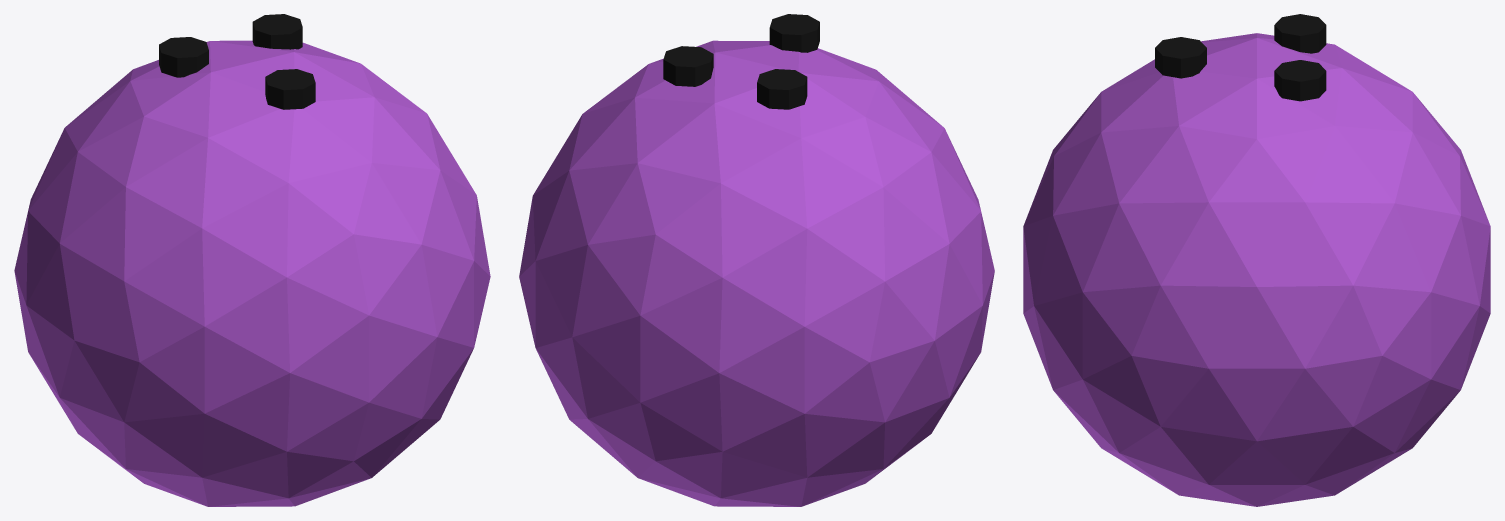
File: bowling_ball_3.glb
3 views of the same model, side by side, from view 1: azimuth 30°, elevation 25°; view 2: azimuth 150°, elevation 25°; view 3: azimuth 270°, elevation 25° (orthographic).
Parts seen in each view (by area): view 1: ball, hole_ball_hole; view 2: ball, hole_ball_hole; view 3: ball, hole_ball_hole.
Part boxes in pixels (<box>): ball: <box>14,40,490,506</box>; hole_ball_hole: <box>159,14,315,109</box>; ball: <box>519,40,994,506</box>; hole_ball_hole: <box>663,14,819,109</box>; ball: <box>1023,33,1490,506</box>; hole_ball_hole: <box>1155,14,1326,101</box>.
Bounding box in the file's own units: 0.2155 × 0.2207 × 0.2155.
